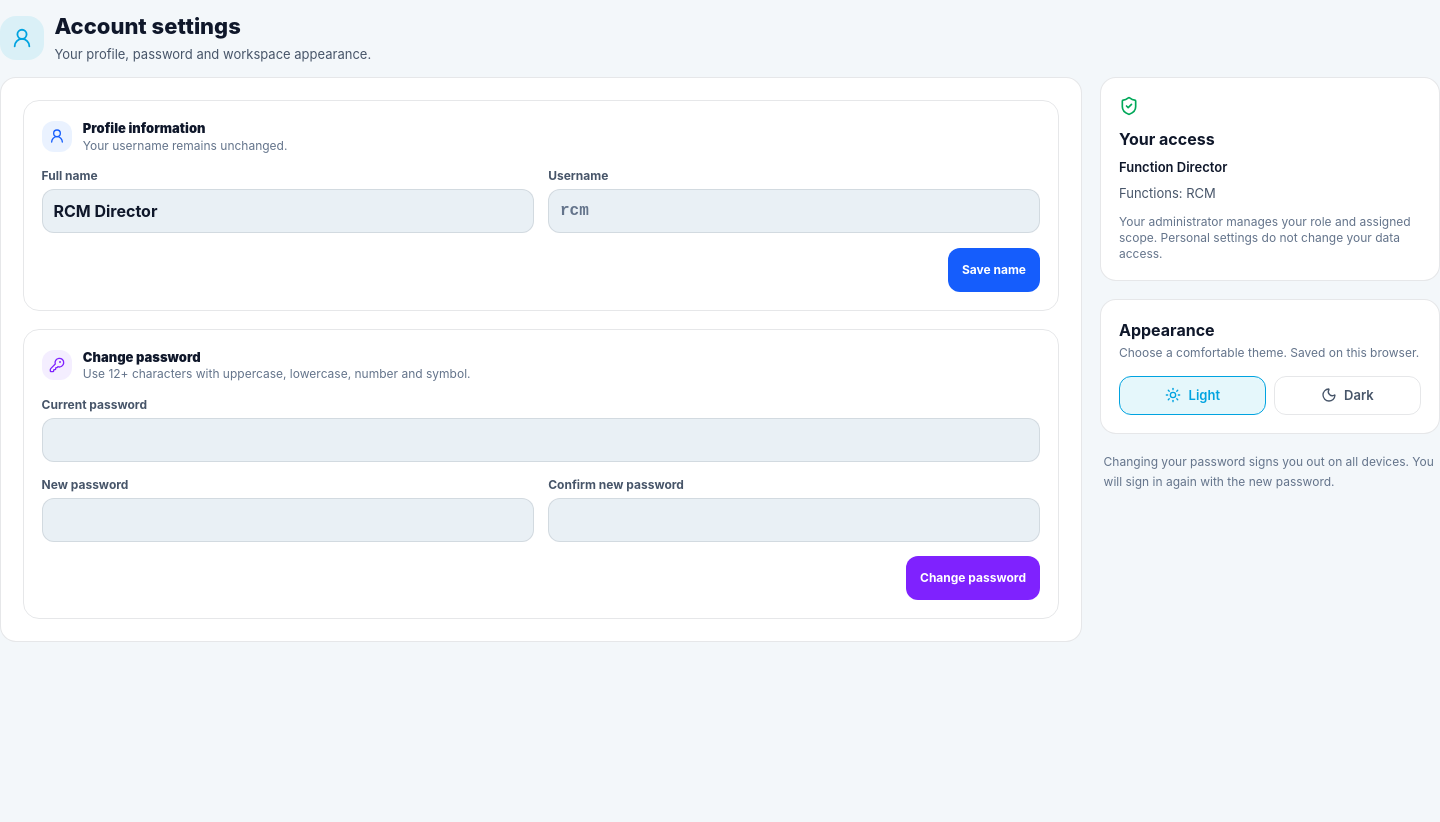
Test: personal account settings › recovers from a rejected profile request
The image size is (1440, 822).
Click the button "Save name". click: click(994, 270)
box: 948,248 -> 1040,292
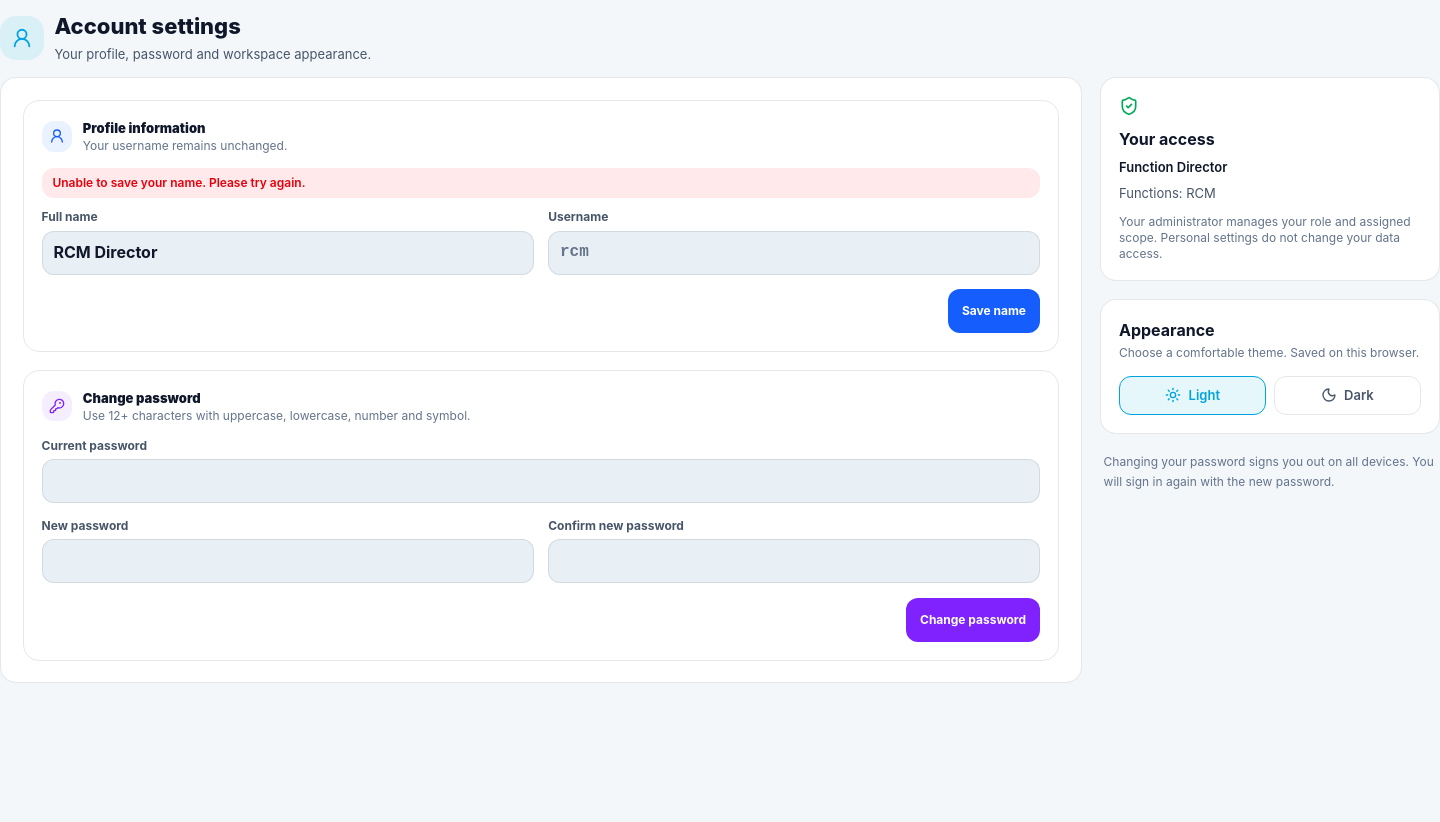
Expected: the button "Save name" is enabled, 948,289 -> 1040,333
Result: the message shows "Unable to save your name" at 52,175 -> 306,190
